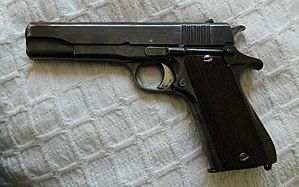Arma Real: (22, 17, 278, 172)
